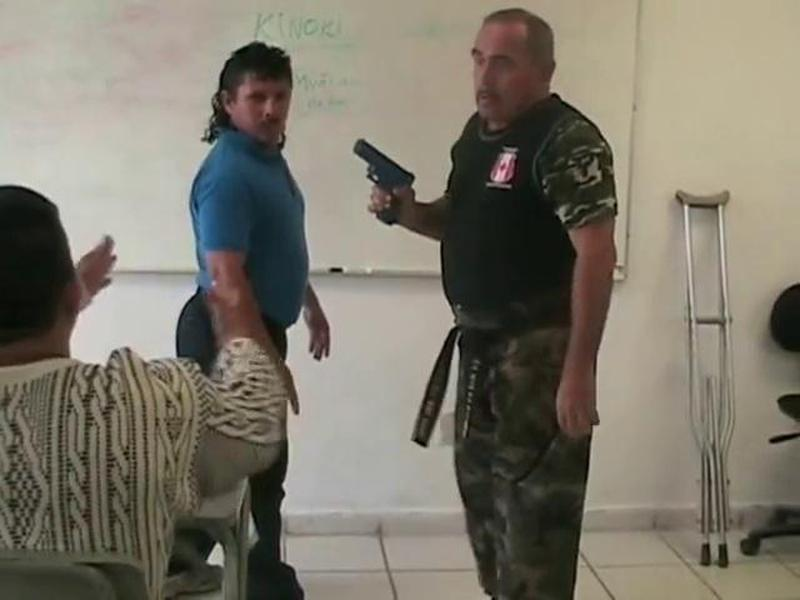Pistola: (342, 134, 433, 233)
